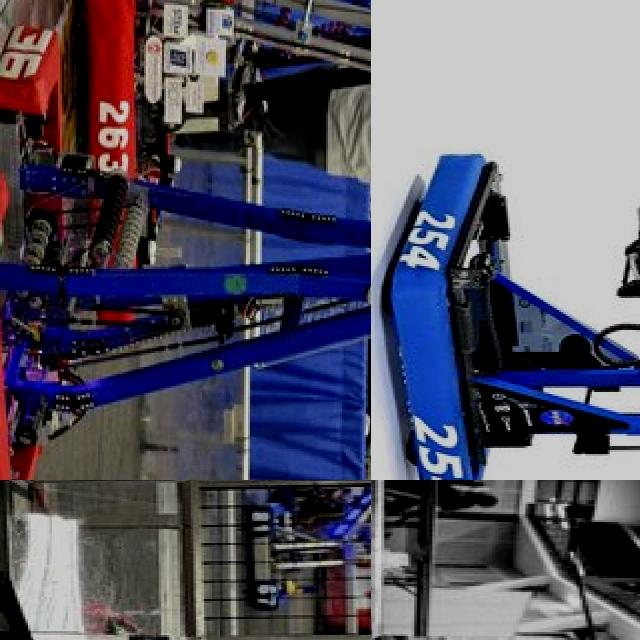FRC-Robots: (0, 9, 371, 480), (371, 157, 640, 480), (79, 0, 371, 205), (204, 480, 371, 611), (371, 568, 640, 640)
